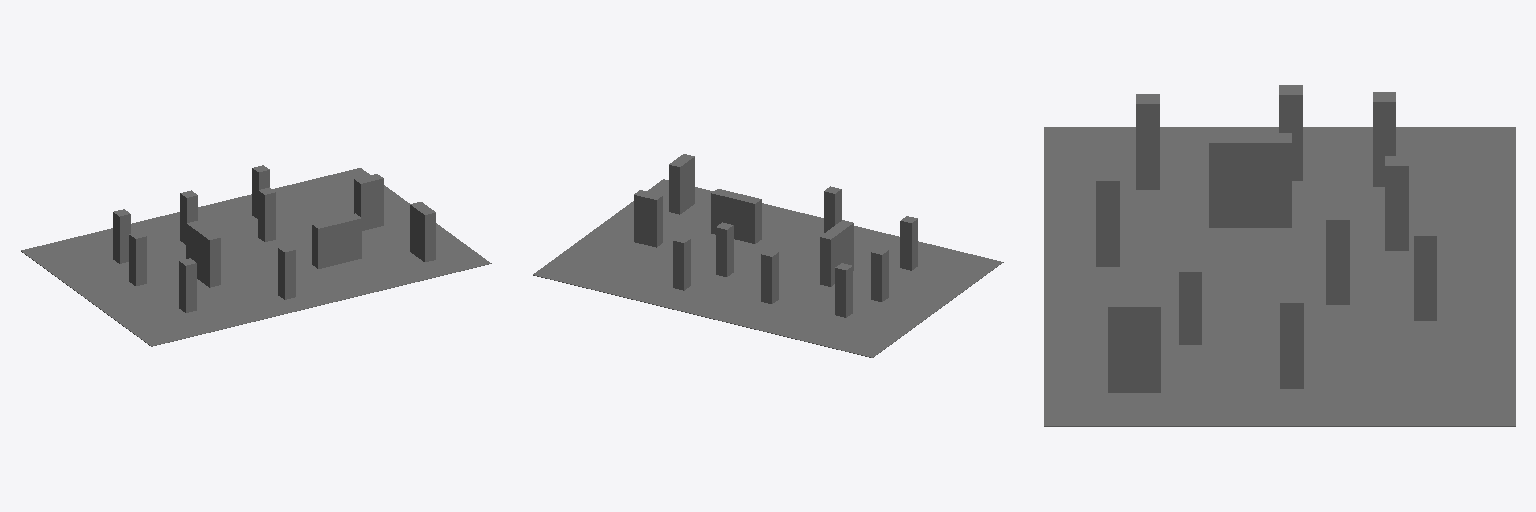
robot.urdf — wolrd:
<?xml version="1.0" ?>
<robot name="wolrd">
    <link name="pillars" concave="yes">
        <inertial>
            <origin rpy="0 0 0" xyz="0 0 0"/>
            <mass value="0"/>
            <inertia ixx="0" ixy="0" ixz="0" iyy="0" iyz="0" izz="0"/>
          </inertial>
        <visual>
        <origin rpy="0 0 0" xyz="0 0 0"/>
         <geometry>
            <mesh filename="./pillars.obj" scale="1 1 1" />
         </geometry>
         <material name="grey">
            <color rgba=".5 .5 .5 1"/>
          </material> 
        </visual> 
        <collision>
            <origin rpy="0 0 0" xyz="0 0 0" />
            <geometry>
              <mesh filename="/root/racer_ws/src/RACER/gpd_ros/urdf/default/h0m7ov97t41b.obj" scale="1 1 1" />
            </geometry>
          </collision>  
    </link>
    <link name="floor" concave="yes">
        <inertial>
            <origin rpy="0 0 0" xyz="0 0 0"/>
            <mass value="0"/>
            <inertia ixx="0" ixy="0" ixz="0" iyy="0" iyz="0" izz="0"/>
          </inertial>
        <visual>
        <origin rpy="0 0 0" xyz="0 0 0"/>
         <geometry>
            <mesh filename="./floor.obj" scale="1 1 1" />
         </geometry>
         <material name="grey">
            <color rgba=".5 .5 .5 1"/>
          </material> 
        </visual> 
        <collision>
            <origin rpy="0 0 0" xyz="0 0 0" />
            <geometry>
              <mesh filename="./floor.obj" scale="1 1 1" />
            </geometry>
          </collision>  
    </link>
    <joint name="floor_pillar" type="fixed">
        <parent link="floor"/>
        <child link="pillars"/>
        
    </joint>
</robot>

--- Facts derived from the render (not from the file) ---
Views: 3 orthographic renders of the robot side by side, from view 1: azimuth 30°, elevation 25°; view 2: azimuth 150°, elevation 25°; view 3: azimuth 270°, elevation 25°.
Model wolrd with 2 links and 1 joints (1 fixed), rooted at floor, posed every joint at zero.
Visible links, largest first — view 1: floor, pillars; view 2: floor, pillars; view 3: floor, pillars.
Boxes of the visible links, x1,y1,x2,y2 form: floor: (21, 168, 491, 346); pillars: (113, 165, 435, 312); floor: (533, 179, 1003, 357); pillars: (634, 154, 917, 317); floor: (1044, 127, 1515, 426); pillars: (1096, 85, 1436, 392).
Bounding box of the posed robot: 30 × 20 × 4.13 m (x, y, z).
Meshes: 2 distinct files referenced, 2 mesh visuals loaded (2 OBJ).
